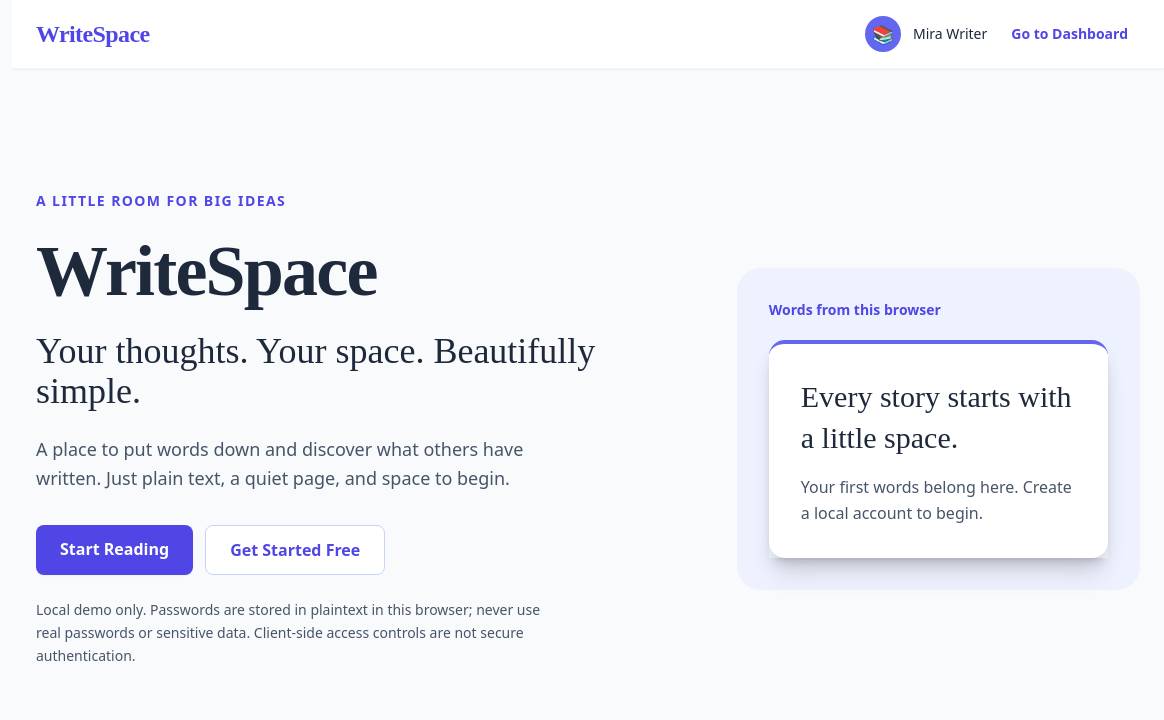
Test: public landing and App wiring › signed registration CTA retains shared identity redirect 0
Click the link "Get Started Free". click: (295,550)
box: [205,525,385,575]
(page scrolled)
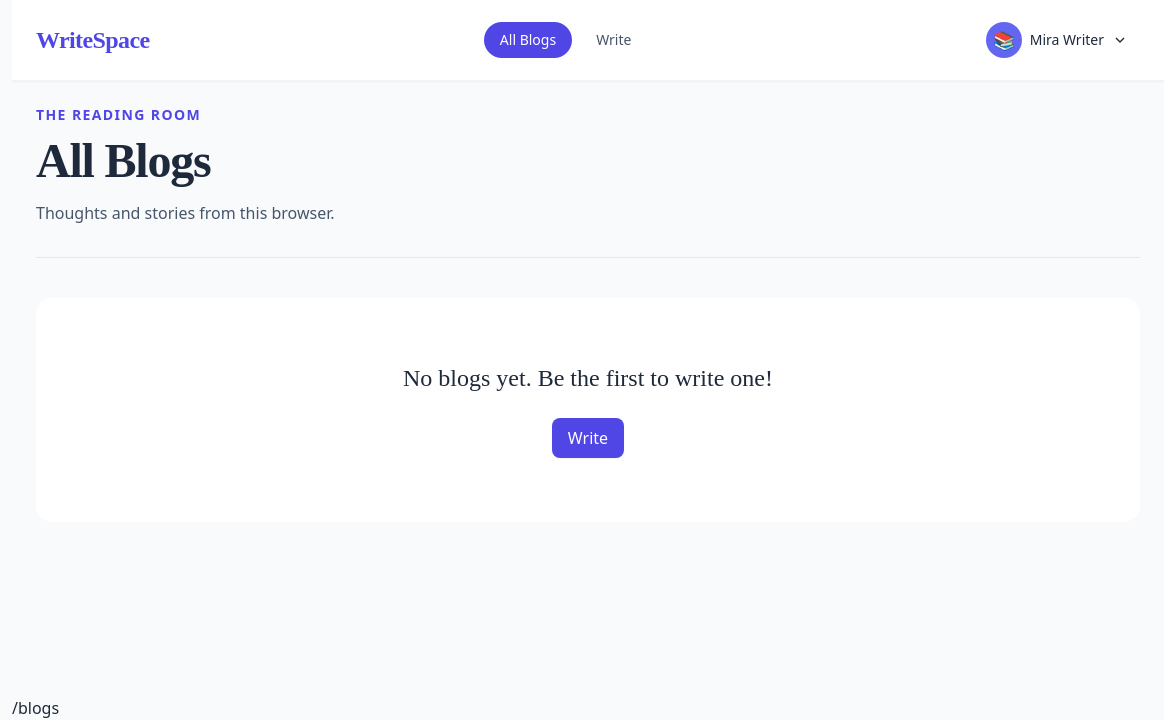
Check: the text named "Current route" reads "/blogs", box [12,697,59,719]
